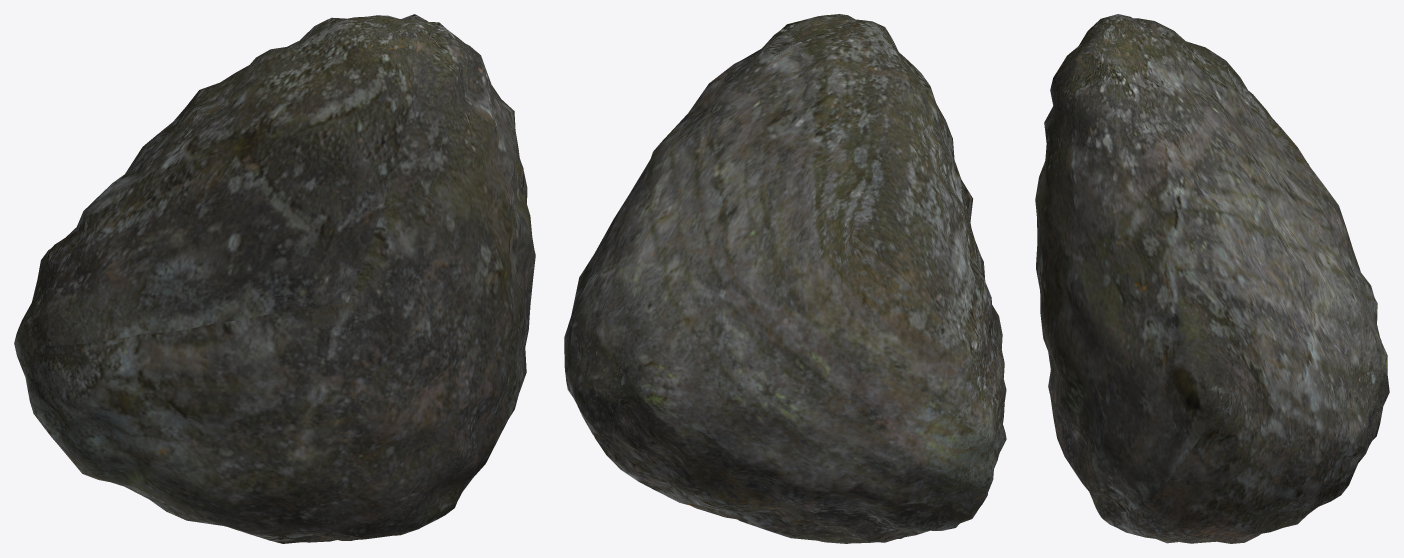
File: SL_Rock_2.fbx
The picture shows the model from 3 angles, left to right: view 1: azimuth 30°, elevation 25°; view 2: azimuth 150°, elevation 25°; view 3: azimuth 270°, elevation 25°; orthographic projection. The views are drawn at different scales.
Visible parts, largest first — view 1: Cube; view 2: Cube; view 3: Cube.
Boxes of the visible parts, left/top/right/bottom form: Cube: left=14, top=14, right=535, bottom=543; Cube: left=564, top=14, right=1006, bottom=543; Cube: left=1035, top=14, right=1389, bottom=543.
Size of the model in its own units: 1299 by 1426 by 927.
Materials: 1 (1 with a texture image).
